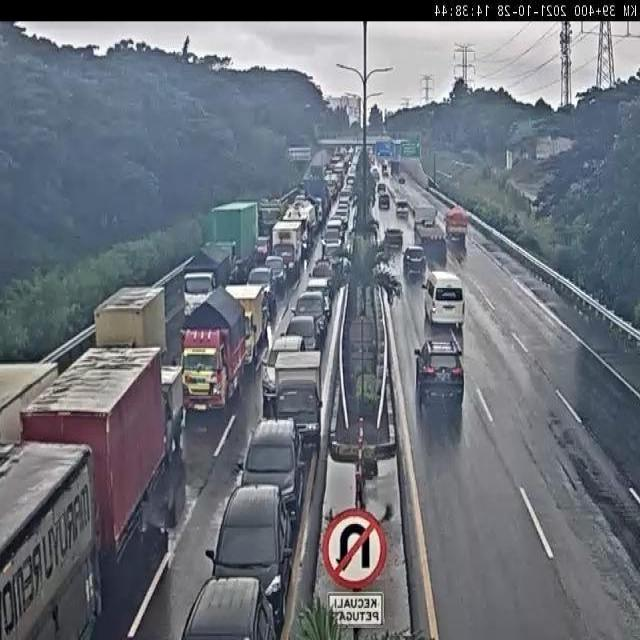Car: (212, 490, 290, 582), (183, 574, 274, 640), (238, 429, 304, 500), (409, 334, 468, 412), (262, 378, 325, 451), (293, 290, 327, 333), (380, 220, 406, 256)
Truck: (19, 348, 168, 562), (177, 288, 249, 408), (91, 282, 169, 356), (183, 237, 231, 316), (210, 197, 258, 270), (271, 217, 304, 280), (413, 202, 446, 263), (445, 207, 468, 235)
Van: (418, 271, 465, 326)
